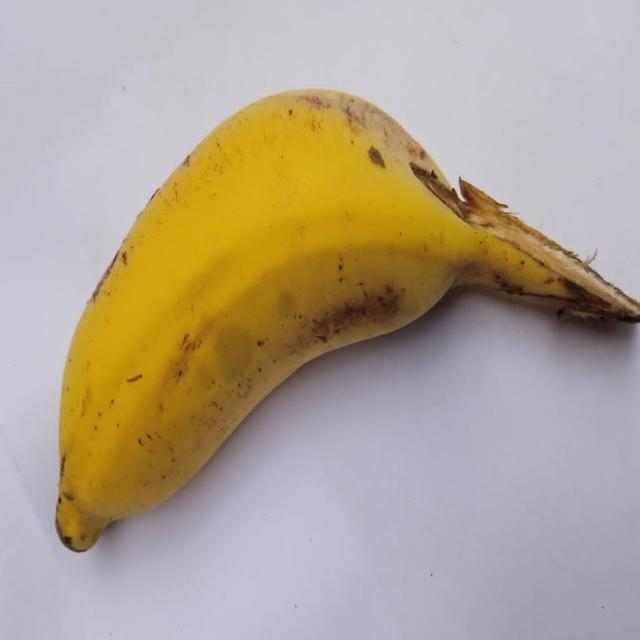banana: (56, 91, 639, 551)
